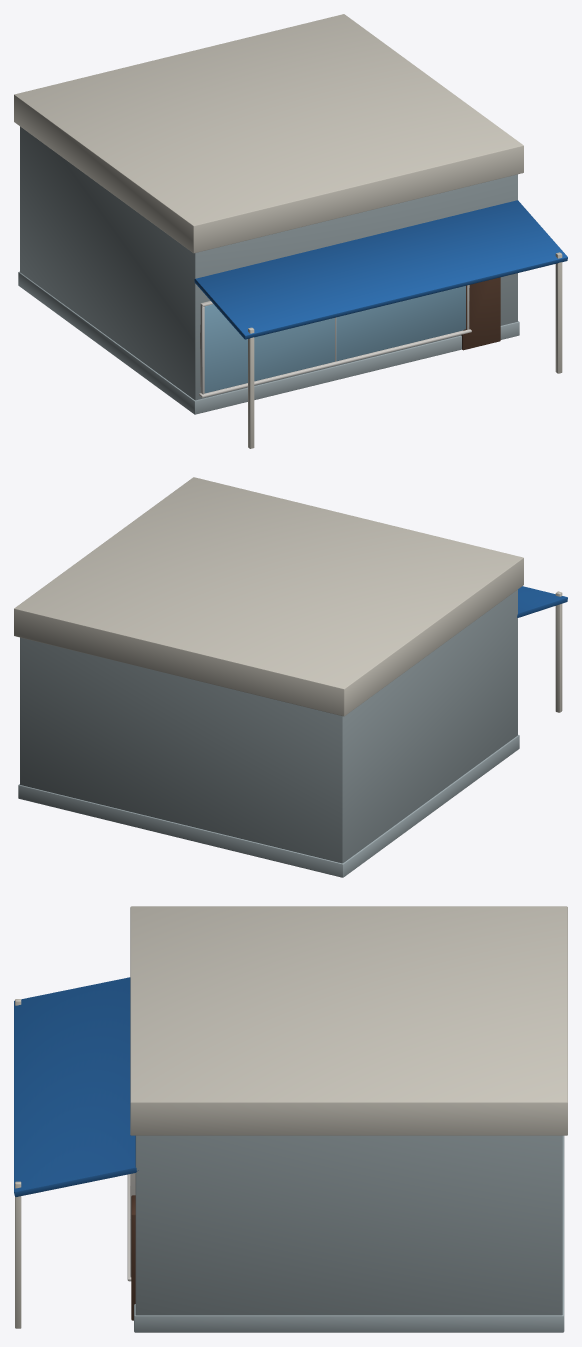
The model's file is hs-hunzxd.glb.
The picture shows the model from 3 angles, top to bottom: view 1: azimuth 30°, elevation 25°; view 2: azimuth 150°, elevation 25°; view 3: azimuth 270°, elevation 25°; orthographic projection. The views are drawn at different scales.
Bounding box in the file's own units: 8.7 × 4.8 × 10.38.
